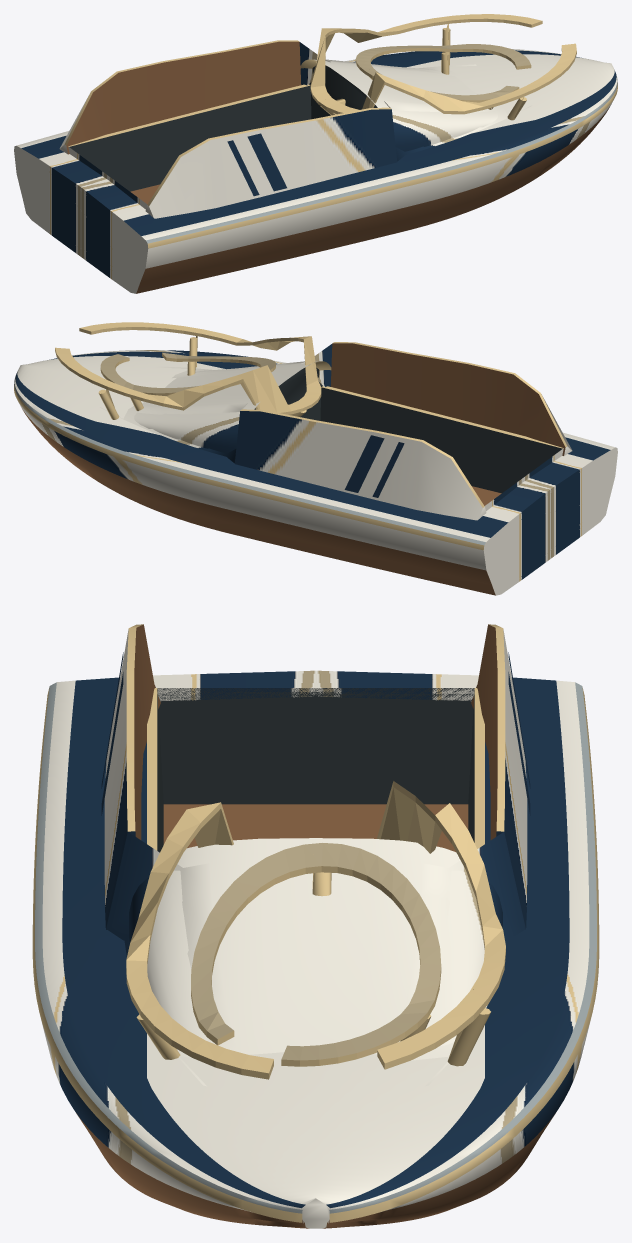
File: Hull_29_UR_象牙・淡金環.glb
3 views of the same model, one above another, from view 1: azimuth 30°, elevation 25°; view 2: azimuth 150°, elevation 25°; view 3: azimuth 270°, elevation 25° (orthographic). The views are drawn at different scales.
Visible parts, largest first — view 1: Hull_29_UR; view 2: Hull_29_UR; view 3: Hull_29_UR.
Boxes of the visible parts, box(x1,y1,x2,y2) form: Hull_29_UR: box(14, 14, 617, 293); Hull_29_UR: box(14, 322, 617, 595); Hull_29_UR: box(32, 624, 599, 1228).
Size of the model in its own units: 2.9 by 0.749 by 1.34.
4 materials, 4 textured.
